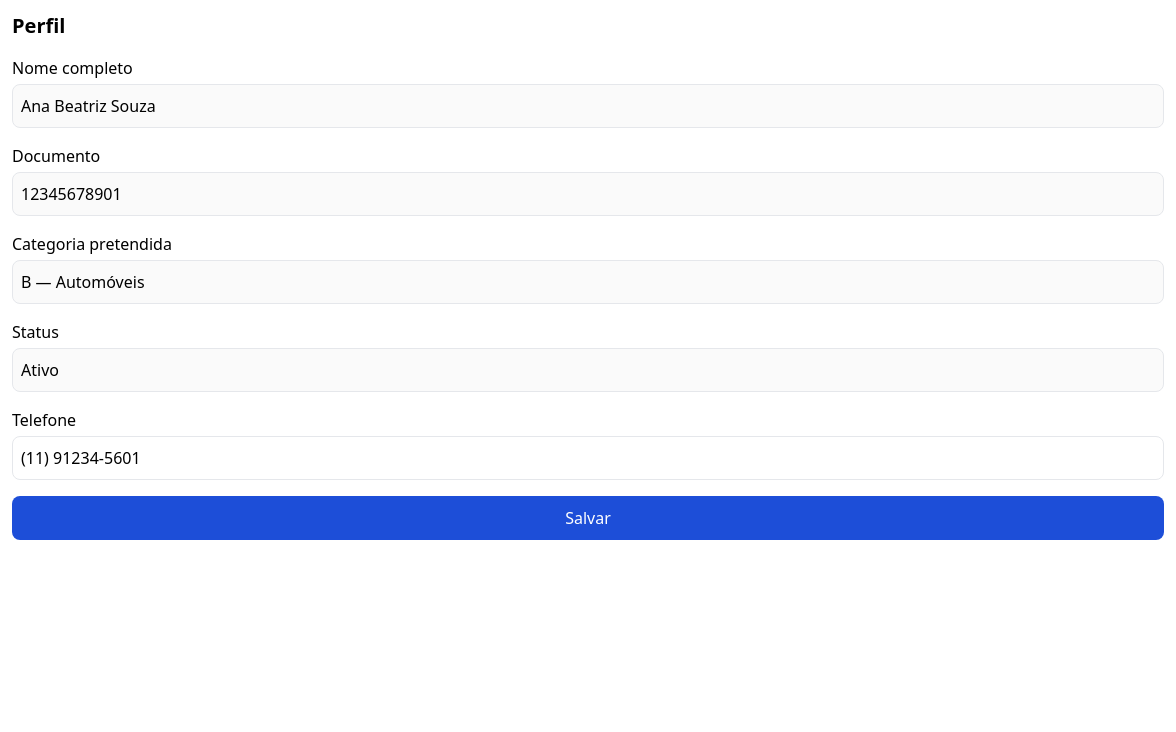
Test: Profile (Aluno) › Deve exibir erro quando o telefone é apagado
Clear the field labelled "Telefone": (588, 458) [12,436,1164,480]
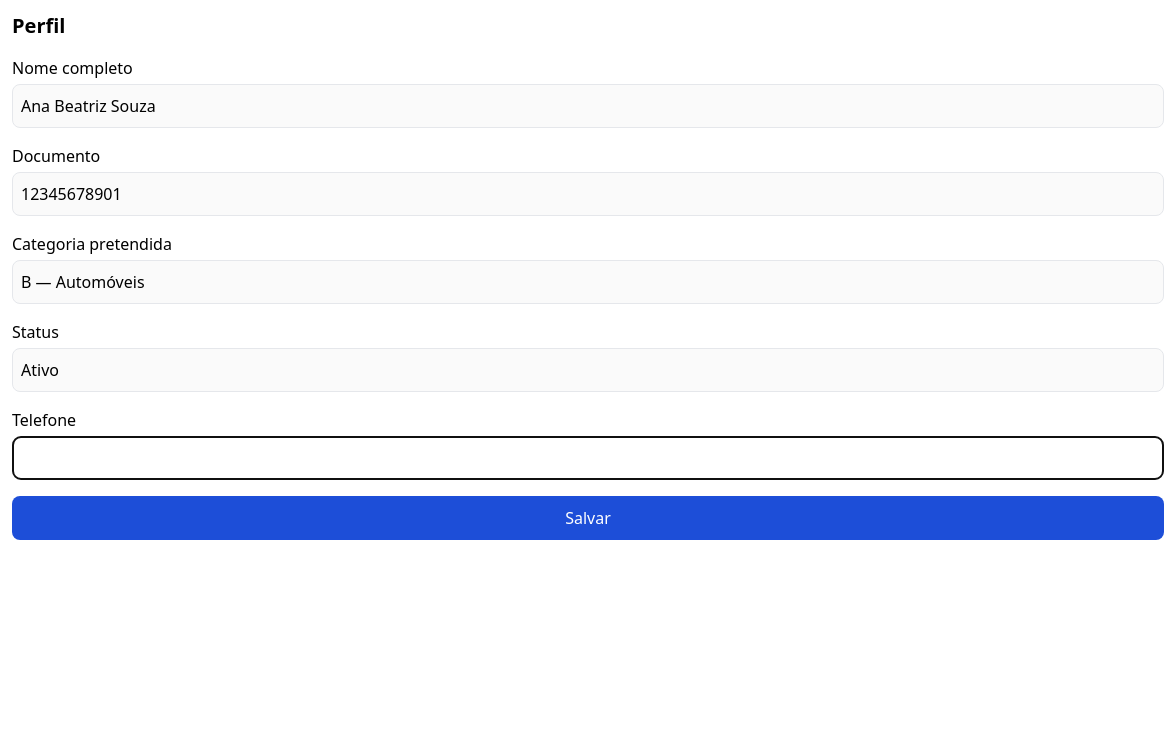
Click the button "Salvar": (588, 518) [12,496,1164,540]
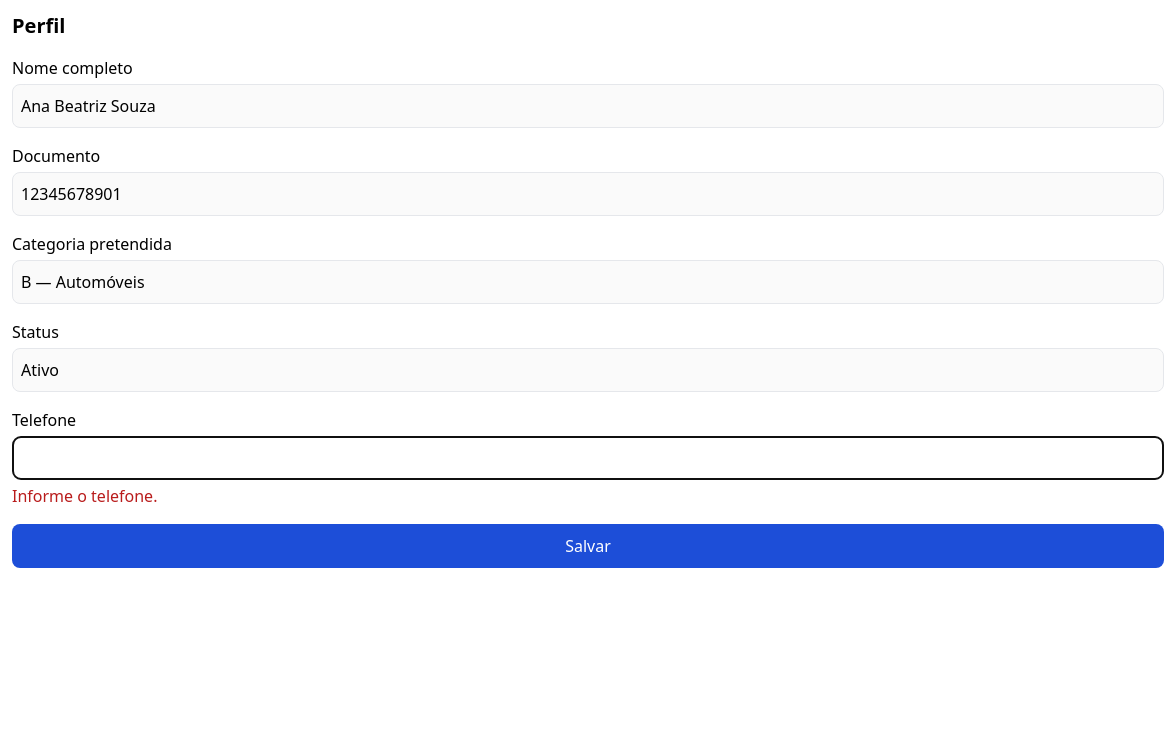
expect the text "Informe o telefone." is shown: met, box [12,485,157,507]
